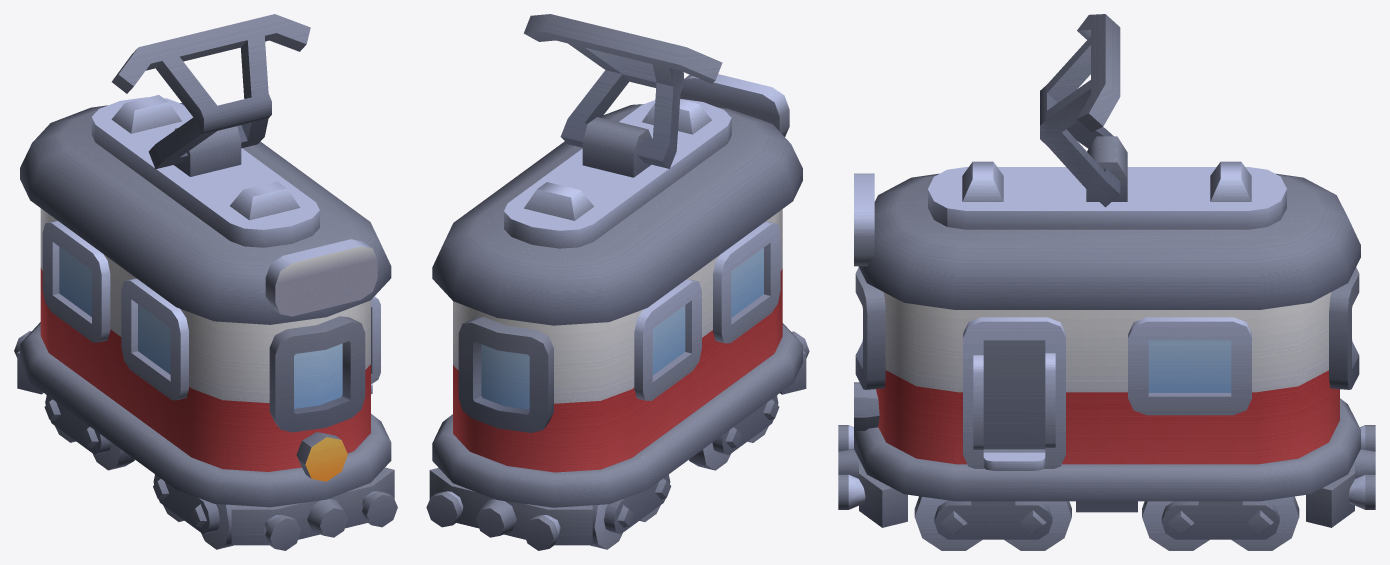
File: train-tram-round.glb
The picture shows the model from 3 angles, left to right: view 1: azimuth 30°, elevation 25°; view 2: azimuth 150°, elevation 25°; view 3: azimuth 270°, elevation 25°; orthographic projection. The views are drawn at different scales.
Visible parts, largest first — view 1: train-tram-round, collector, Group, wheels-front, wheels-back; view 2: train-tram-round, collector, Group, wheels-back, wheels-front; view 3: train-tram-round, Group, collector, wheels-front, wheels-back.
Part boxes in pixels (<box>): train-tram-round: <box>14,95,397,550</box>; collector: <box>112,14,310,169</box>; Group: <box>91,97,319,247</box>; wheels-front: <box>153,474,233,549</box>; wheels-back: <box>44,395,134,470</box>; train-tram-round: <box>426,74,809,550</box>; collector: <box>523,14,722,168</box>; Group: <box>504,99,731,248</box>; wheels-back: <box>590,474,671,549</box>; wheels-front: <box>689,395,779,470</box>; train-tram-round: <box>838,136,1375,527</box>; Group: <box>928,167,1286,229</box>; collector: <box>1040,14,1120,207</box>; wheels-front: <box>914,496,1071,550</box>; wheels-back: <box>1142,496,1299,550</box>.
Bounding box in the file's own units: 1.25 × 2.49 × 2.6.
Materials: 1 (1 with a texture image).
